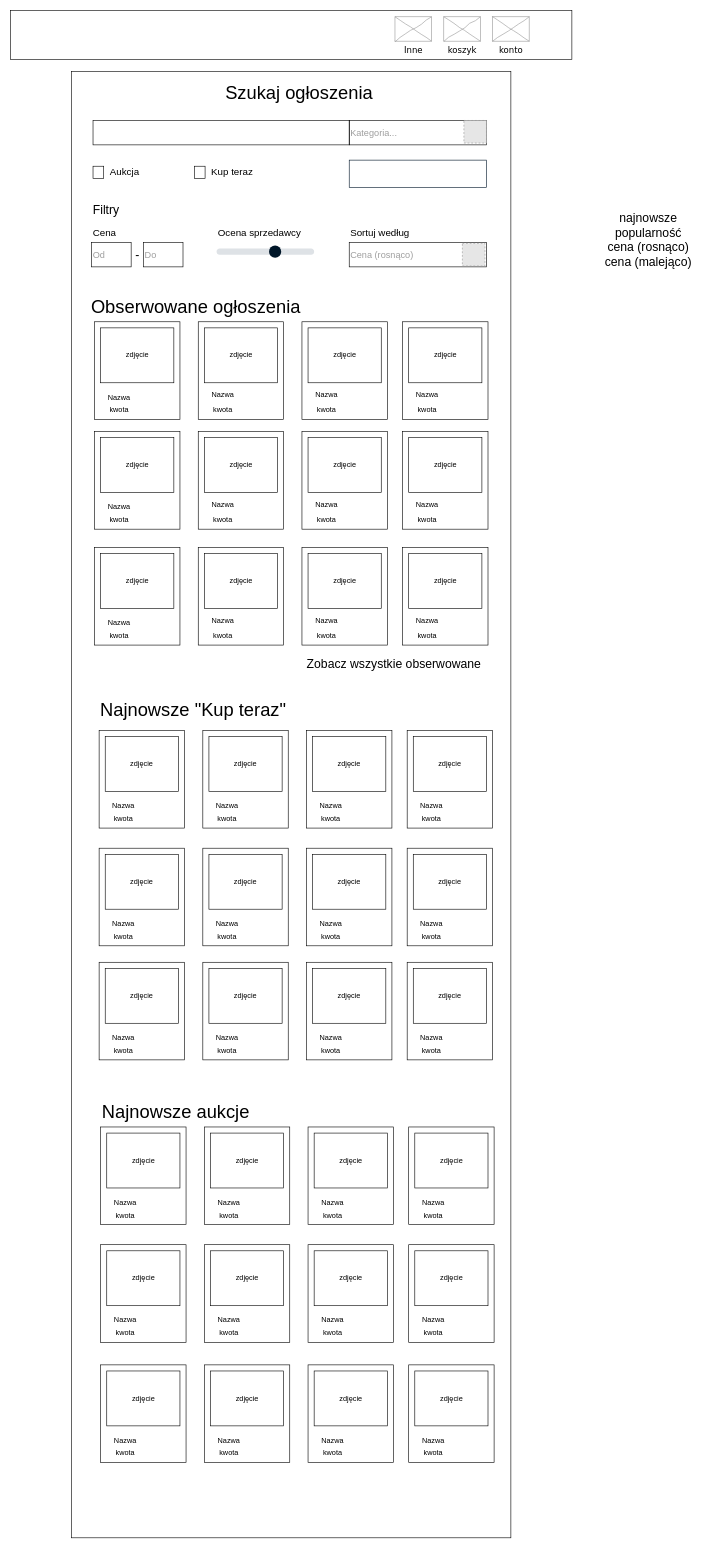
Image size: 711x1549. Some labels were removed from this diagram. Grey dashed boxes stand in for pictures. Each missing label, with the centre of its shape:
Podaj frazę: (220,132)
SZUKAJ: (417,174)
